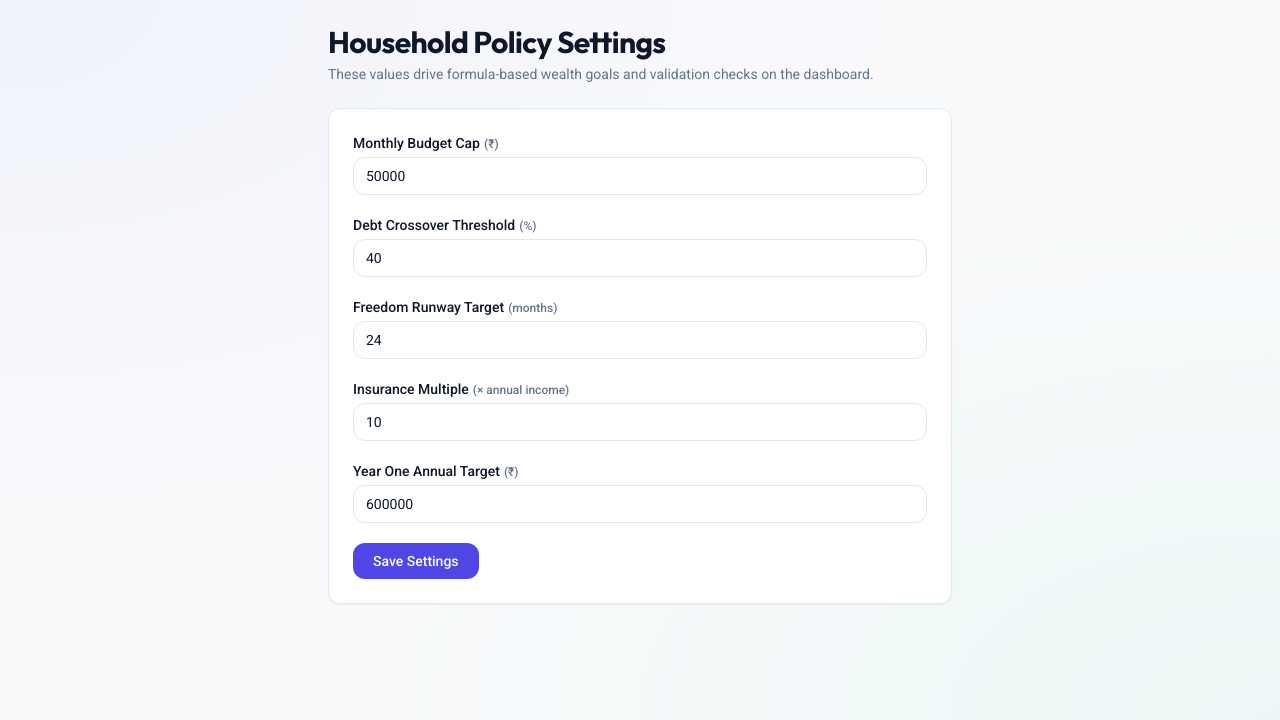
Test: PolicySettings › shows success message after save
Expected: the number field labelled "Monthly Budget Cap(₹)" is shown, [353, 157, 927, 195]
Step 1. Click the button "Save Settings" → [416, 561], box [353, 543, 479, 579]
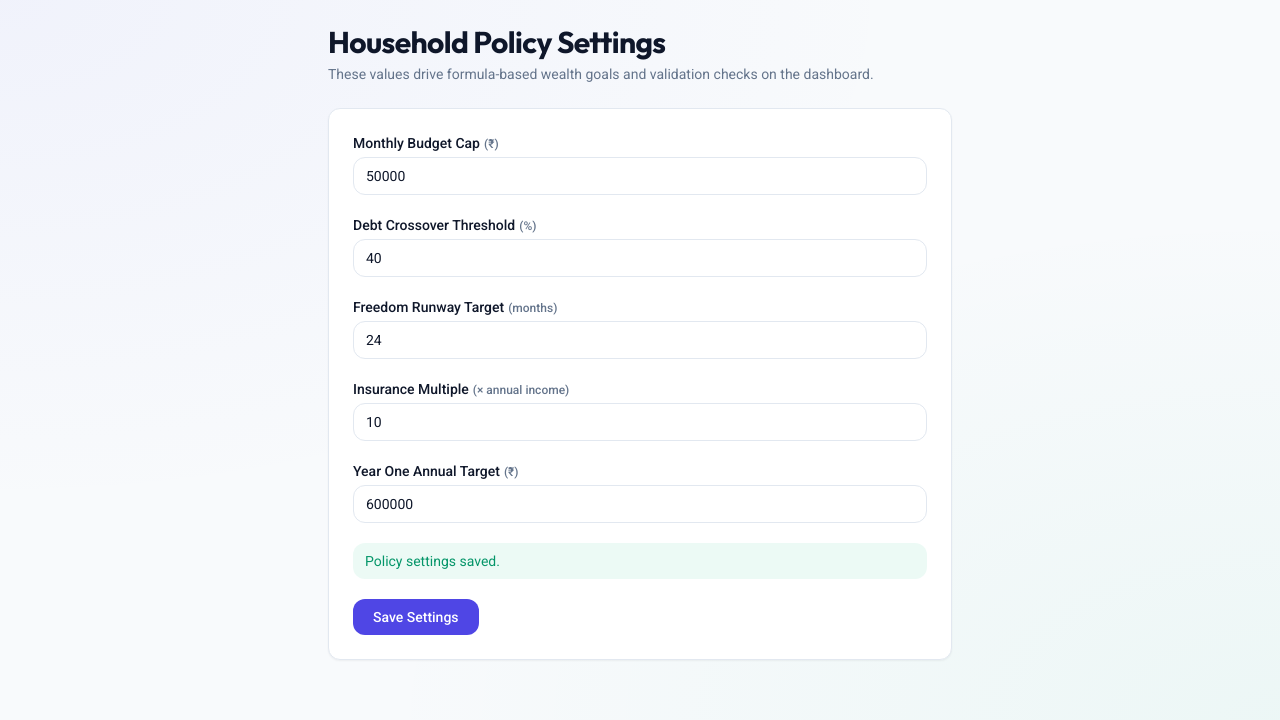
Expected: the text "Policy settings saved." is shown, [353, 543, 927, 579]
